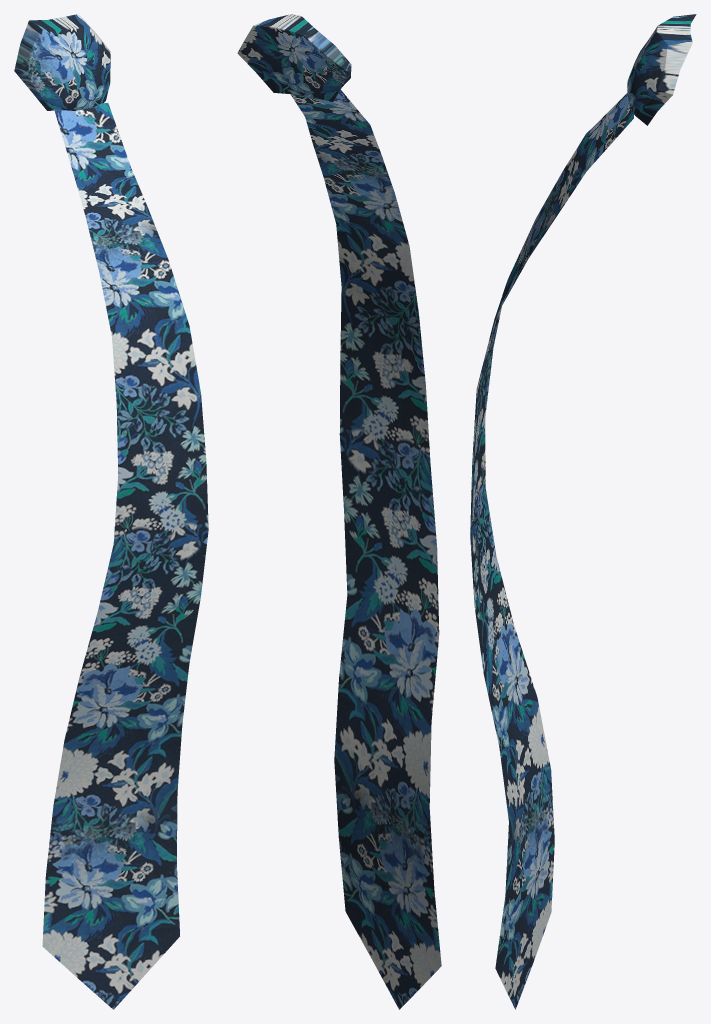
The model's file is Pose-6_SuitTie-2.fbx.
The picture shows the model from 3 angles, left to right: view 1: azimuth 30°, elevation 25°; view 2: azimuth 150°, elevation 25°; view 3: azimuth 270°, elevation 25°; orthographic projection. The views are drawn at different scales.
Parts seen in each view (by area): view 1: Pose-6_SuitTie-2; view 2: Pose-6_SuitTie-2; view 3: Pose-6_SuitTie-2.
Boxes of the visible parts, bbox=[...] form: Pose-6_SuitTie-2: bbox=[14, 14, 208, 1009]; Pose-6_SuitTie-2: bbox=[237, 14, 441, 1009]; Pose-6_SuitTie-2: bbox=[470, 14, 696, 1009].
Size of the model in its own units: 7.44 by 51.36 by 10.58.
